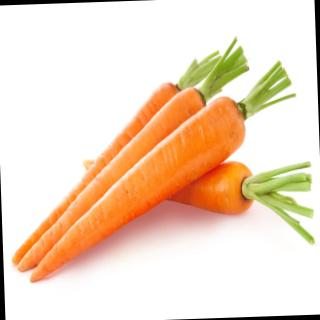Wortel: (1, 17, 320, 291)
